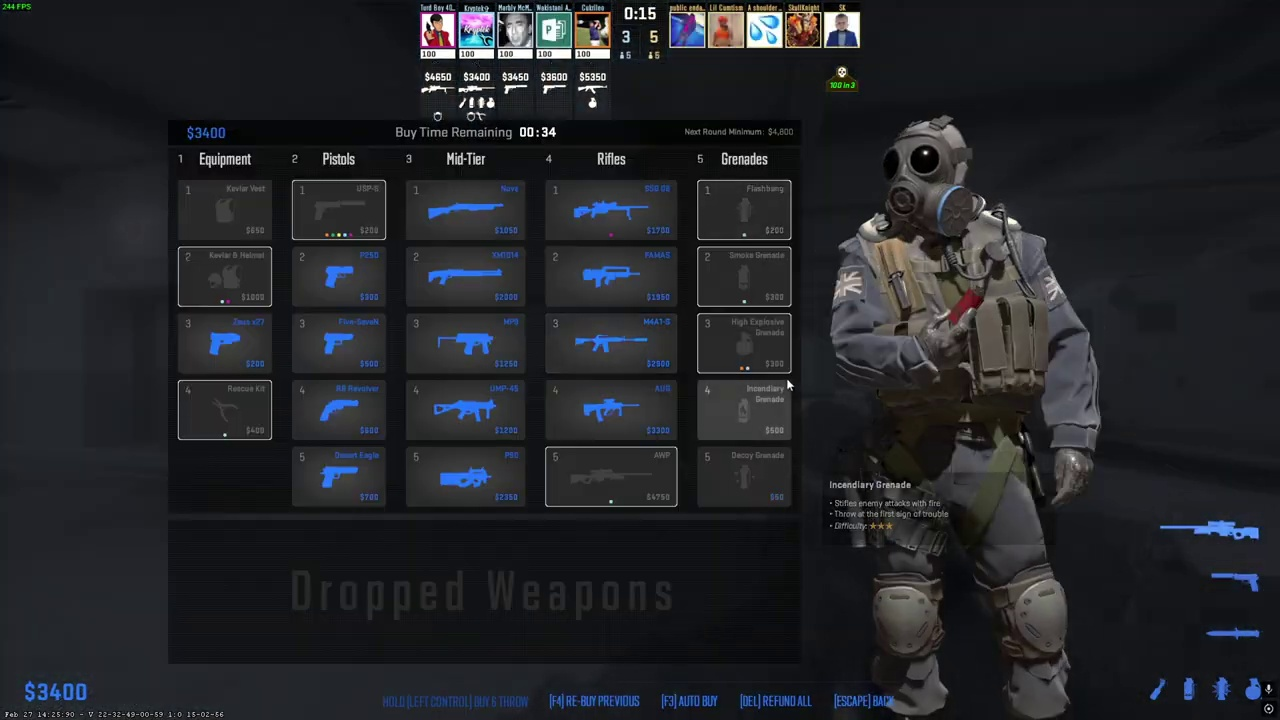CT: (855, 120, 1077, 720)
